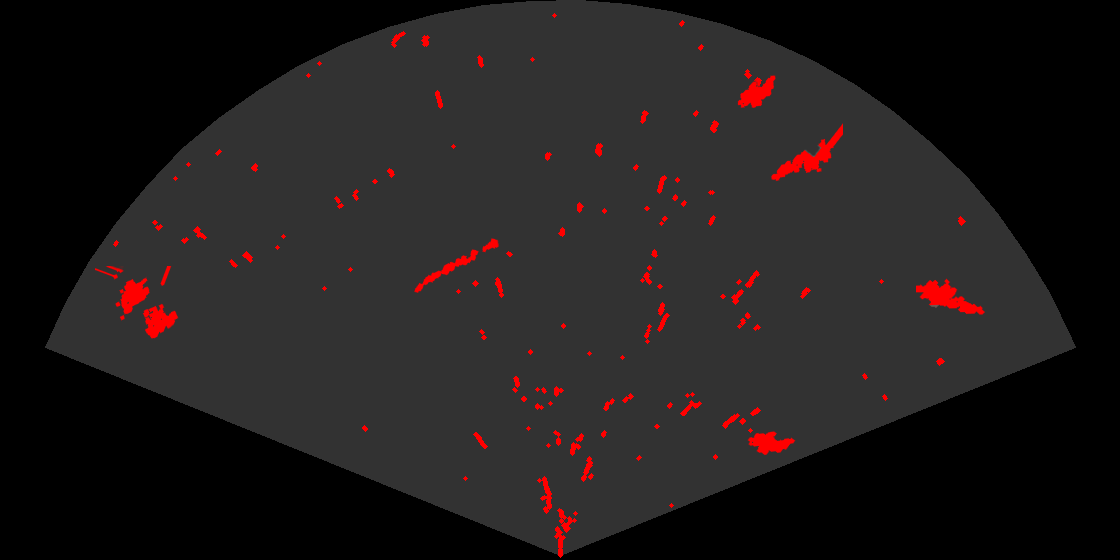AUV: (736, 74, 777, 110), (746, 430, 797, 457)
cage: (95, 266, 180, 340)
chain: (413, 237, 501, 294)
frogman: (770, 123, 843, 183), (916, 277, 985, 316)
